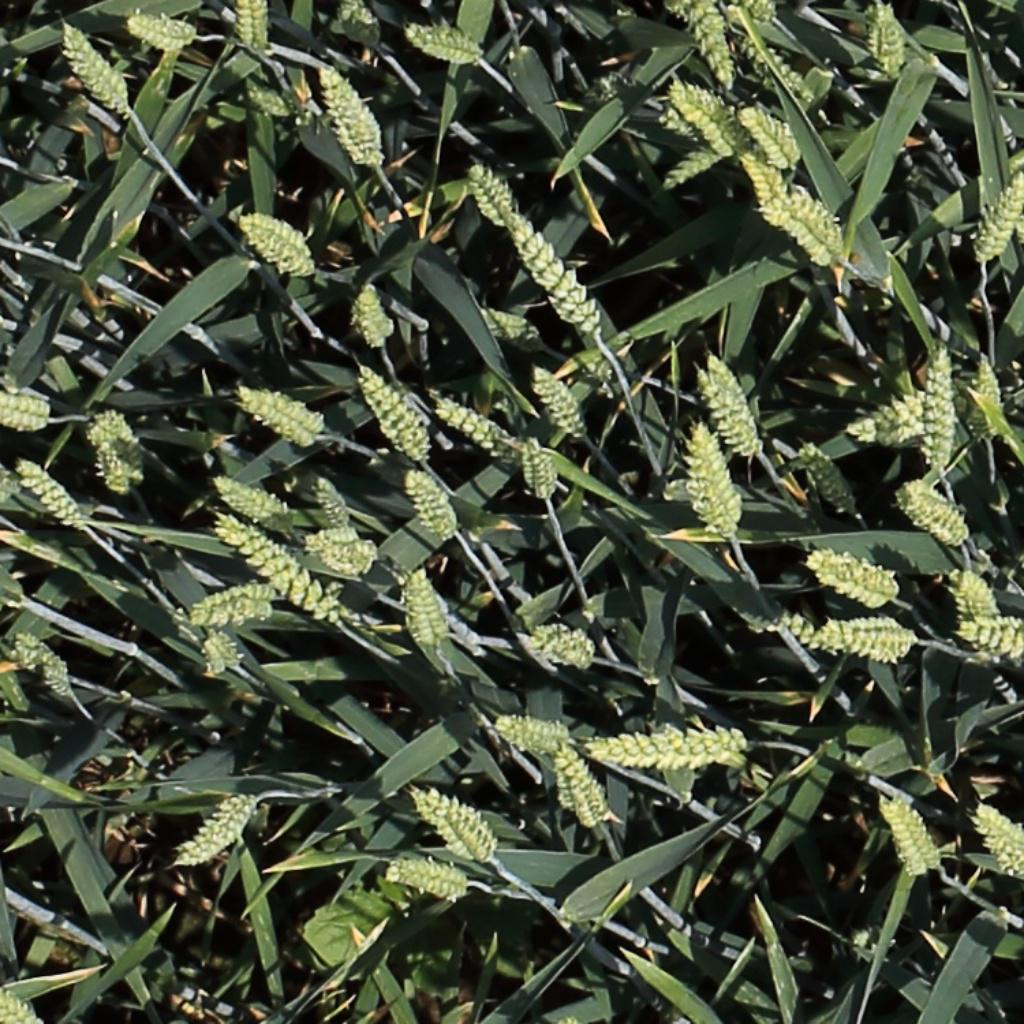0-0: (496, 202, 608, 338), (215, 514, 341, 623), (743, 610, 927, 658), (354, 361, 432, 464), (57, 19, 135, 121), (316, 60, 383, 167), (580, 725, 756, 764), (737, 27, 821, 107), (671, 0, 738, 94), (701, 353, 763, 454), (178, 794, 258, 869), (236, 387, 327, 452), (413, 790, 501, 856), (434, 395, 520, 462), (694, 421, 741, 540), (797, 435, 864, 517), (554, 740, 613, 832), (15, 457, 87, 532), (768, 187, 843, 256), (973, 163, 1024, 264), (529, 359, 591, 442), (404, 464, 461, 544), (738, 101, 804, 170), (674, 83, 740, 151), (183, 582, 278, 629), (882, 797, 933, 884), (237, 215, 314, 271), (13, 630, 76, 697), (972, 802, 1024, 883), (812, 552, 901, 598), (899, 801, 948, 882), (90, 408, 144, 481), (901, 488, 970, 544), (406, 565, 450, 652), (465, 159, 518, 228), (212, 476, 290, 521), (741, 141, 789, 214), (928, 342, 954, 476), (309, 469, 356, 539), (953, 566, 998, 632), (404, 24, 484, 61), (958, 612, 1024, 656), (327, 0, 390, 46), (90, 437, 136, 499), (386, 866, 471, 898), (305, 535, 375, 573), (354, 279, 390, 352), (972, 352, 1004, 434), (865, 0, 897, 81), (522, 432, 557, 506), (495, 718, 573, 750), (661, 471, 750, 499), (531, 629, 595, 666), (125, 13, 196, 46), (200, 628, 244, 680), (725, 0, 788, 36), (666, 147, 720, 185), (238, 0, 266, 57), (247, 83, 294, 116), (0, 980, 34, 1024), (0, 395, 49, 424)
